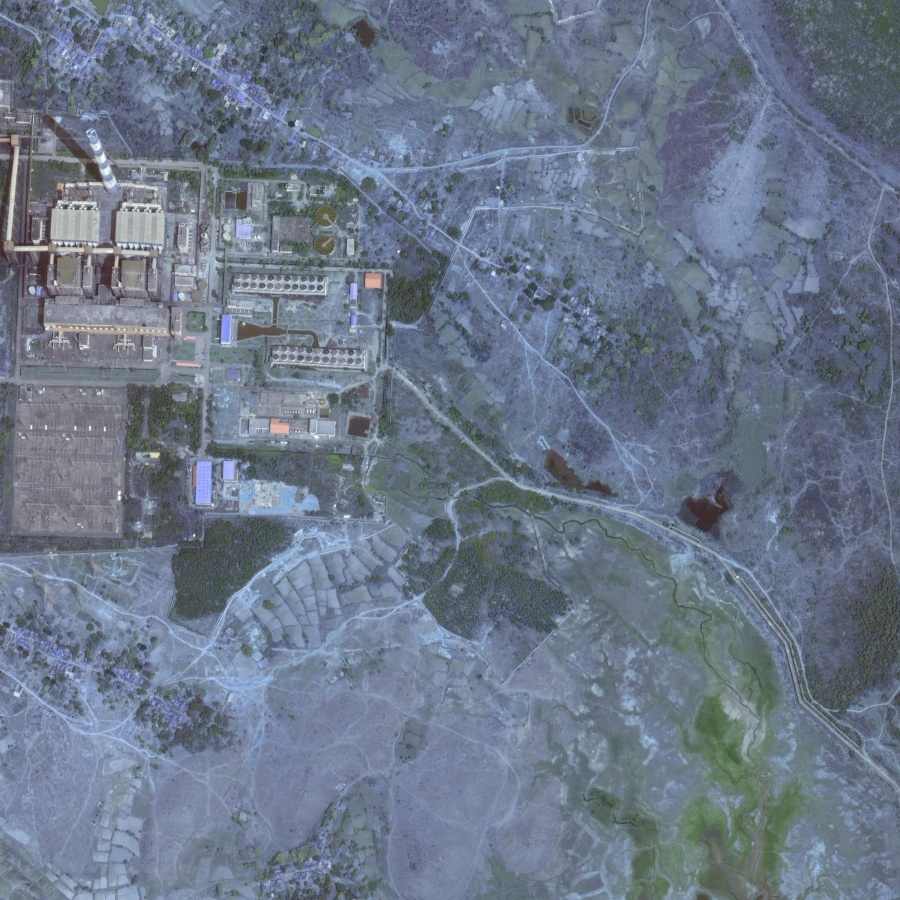PowerPlant: (17, 89, 171, 222)
